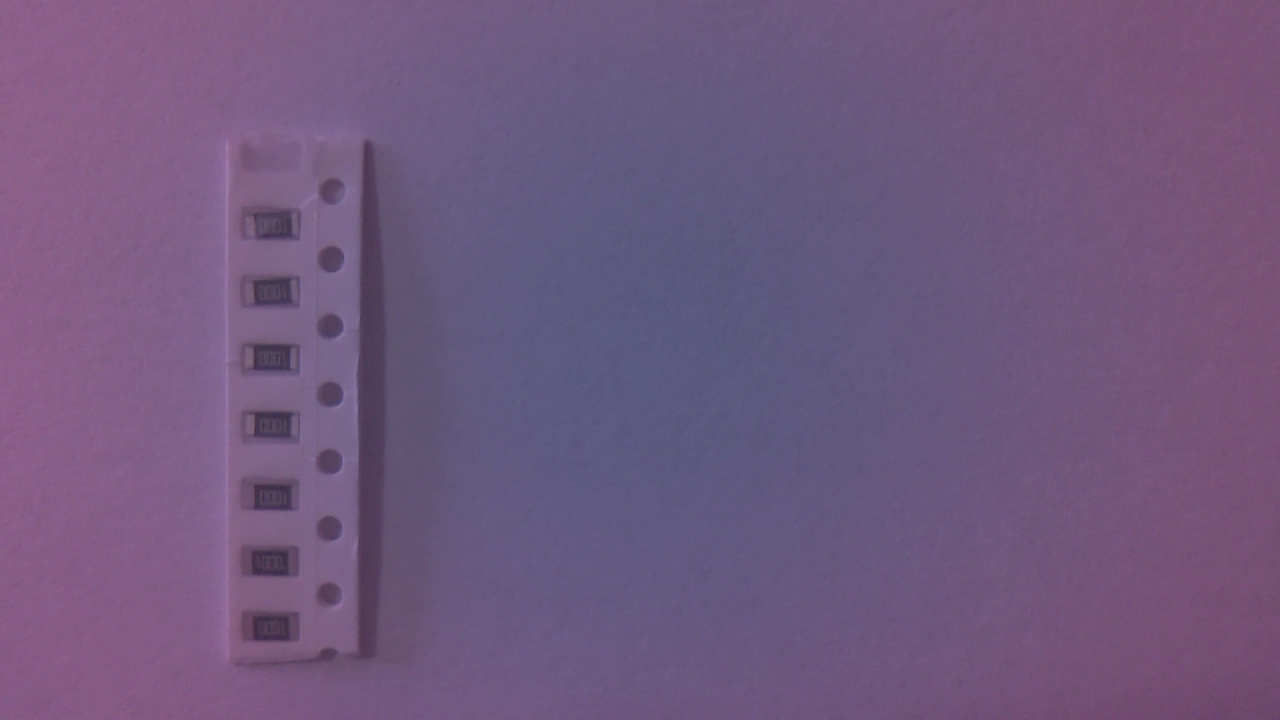Resistor: (246, 345, 307, 380), (247, 548, 308, 583), (246, 482, 306, 517), (247, 214, 309, 247), (245, 281, 306, 314), (247, 616, 306, 650), (247, 413, 305, 447)
